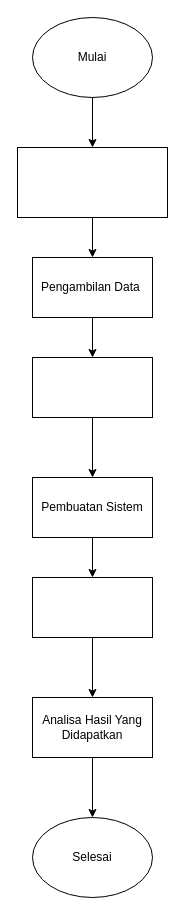
Some shapes in this 185 by 915 pixel diagram are drawn without their labels. The centre of each missing label's shape, as x and y in pixels:
"Menentukan Metode dan Rancangan SPK" belongs at [92,182].
"Perancangan Sistem" belongs at [92,387].
"Uji Coba" belongs at [92,607].
